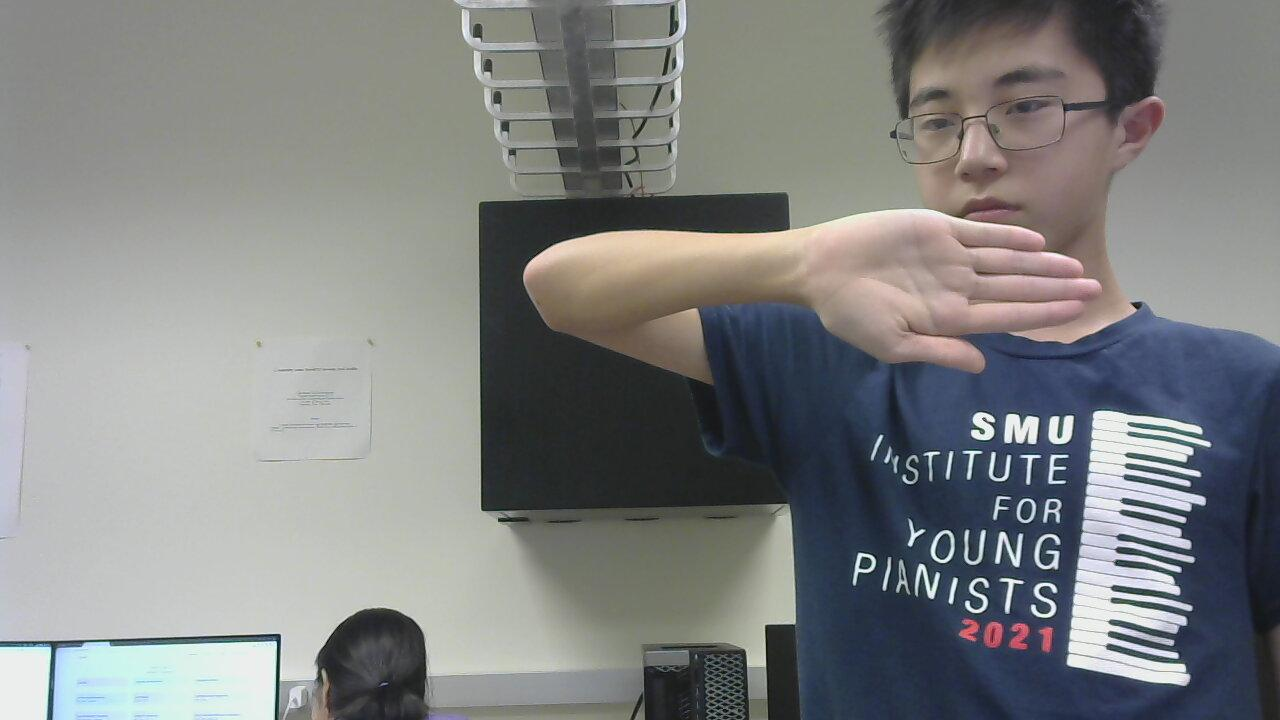hands: (808, 192, 1107, 386)
